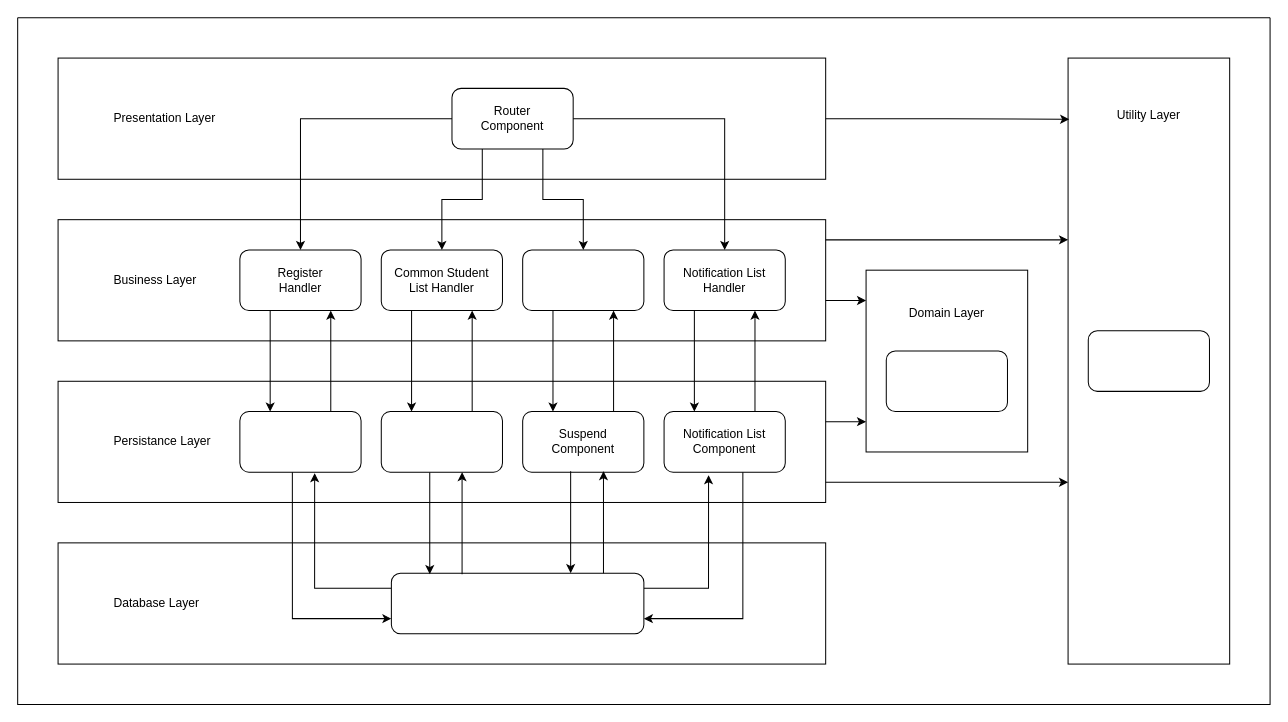
This 1288x722 diagram has some shape labels left out. The centre of each missing label's shape, as x and y in pixels:
Common Student Component: the point at 441,441
Logger: the point at 1148,360
Models: the point at 946,381
PostgreSQL: the point at 517,603
Register Component: the point at 300,441
Suspend Handler: the point at 583,280
